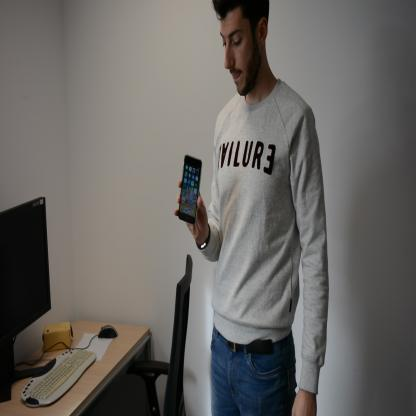smartphone: (177, 153, 202, 225)
